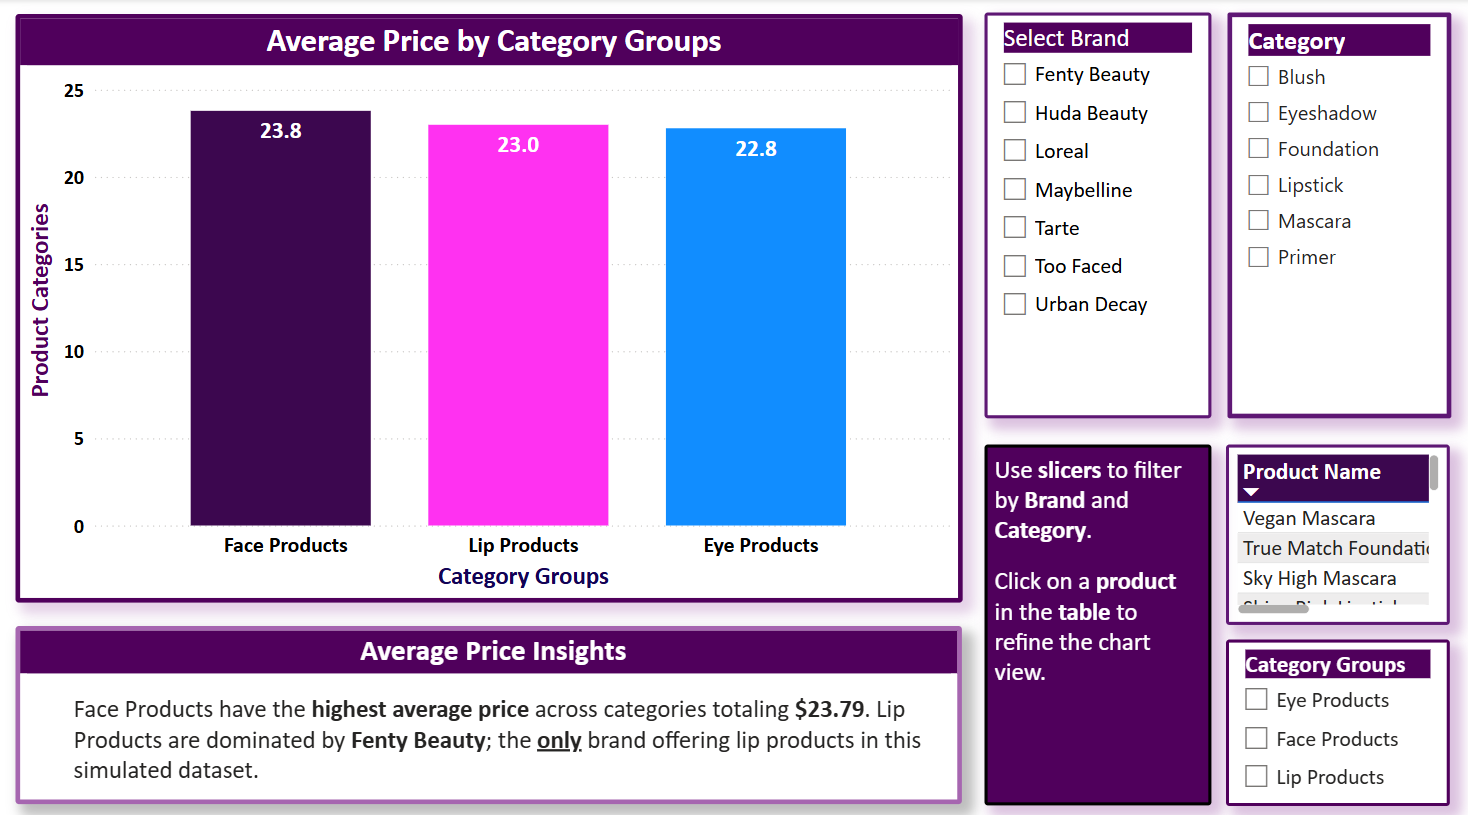

Layout of this report page (visuals, bound fields, positions):
{"tool":"powerbi","page":{"name":"Average Price by Cat ","canvas":[1280,720],"ordinal":10},"visuals":[{"type":"clusteredColumnChart","title":"Average Price by Category Groups  ","fields":{"Category":["Products.Category Groups  "],"Y":["Avg(Products.Price)"]},"box":[10.6,12.1,834.8,507.6],"z":0},{"type":"slicer","fields":{"Values":["Products.Category"]},"box":[1072.5,12,192.7,349.5],"z":1000},{"type":"slicer","fields":{"Values":["Products.Brand"]},"box":[863.5,12,195.3,349.4],"z":2000},{"type":"tableEx","fields":{"Values":["Products.Product Name"]},"box":[1072.2,384,192.7,155.5],"z":3000},{"type":"textbox","box":[863.5,383.9,195.3,310.8],"z":4000},{"type":"textbox","title":"Insights","box":[10.6,539.4,834.8,154.5],"z":5000},{"type":"slicer","fields":{"Values":["Products.Category Groups  "]},"box":[1072.2,551.9,192.7,143.1],"z":6000}]}

Visuals, with their boxes in screenshot pixels (x1, y1, x2, y2), scaled from the page's 1280x720 canvas onto the 1468x815 screenshot:
"Average Price by Category Groups  " clusteredColumnChart: (x1=12, y1=14, x2=970, y2=588)
slicer - Products.Category: (x1=1230, y1=14, x2=1451, y2=409)
slicer - Products.Brand: (x1=990, y1=14, x2=1214, y2=409)
tableEx - Products.Product Name: (x1=1230, y1=435, x2=1451, y2=611)
textbox: (x1=990, y1=435, x2=1214, y2=786)
"Insights" textbox: (x1=12, y1=611, x2=970, y2=785)
slicer - Products.Category Groups  : (x1=1230, y1=625, x2=1451, y2=787)
